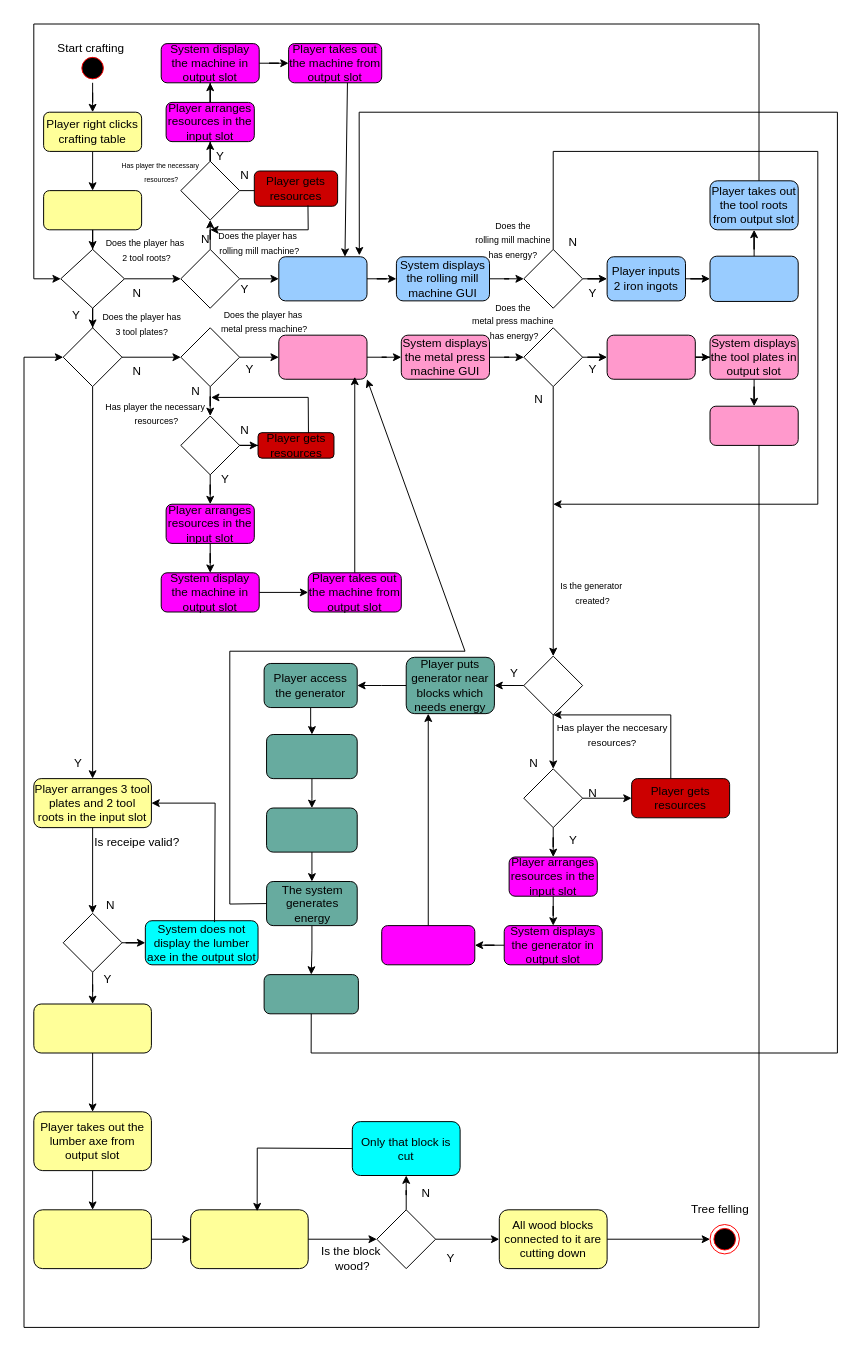
Some shapes in this 862 by 1352 pixel diagram are drawn without their labels. The centre of each missing label's shape, as x and y in pixels:
Player access rolling mill machine: the point at 322,278
Player access the metal press machine: the point at 322,356
Player equipts lumber axe: the point at 92,1239
Player inputs 4 iron ingots: the point at 650,356
Player puts: the point at 310,994
Player puts a stack of coal: the point at 311,829
Player starts to cut block: the point at 249,1239
Player takes out the generator from output slot: the point at 428,945
Player takes out the tool plates from output slot: the point at 753,425
System displays crafting table GUI: the point at 92,210
System displays the generator GUI: the point at 311,756
System displays the lumber axe in the output slot: the point at 92,1028
System displays the tool roots in output slot: the point at 753,278
